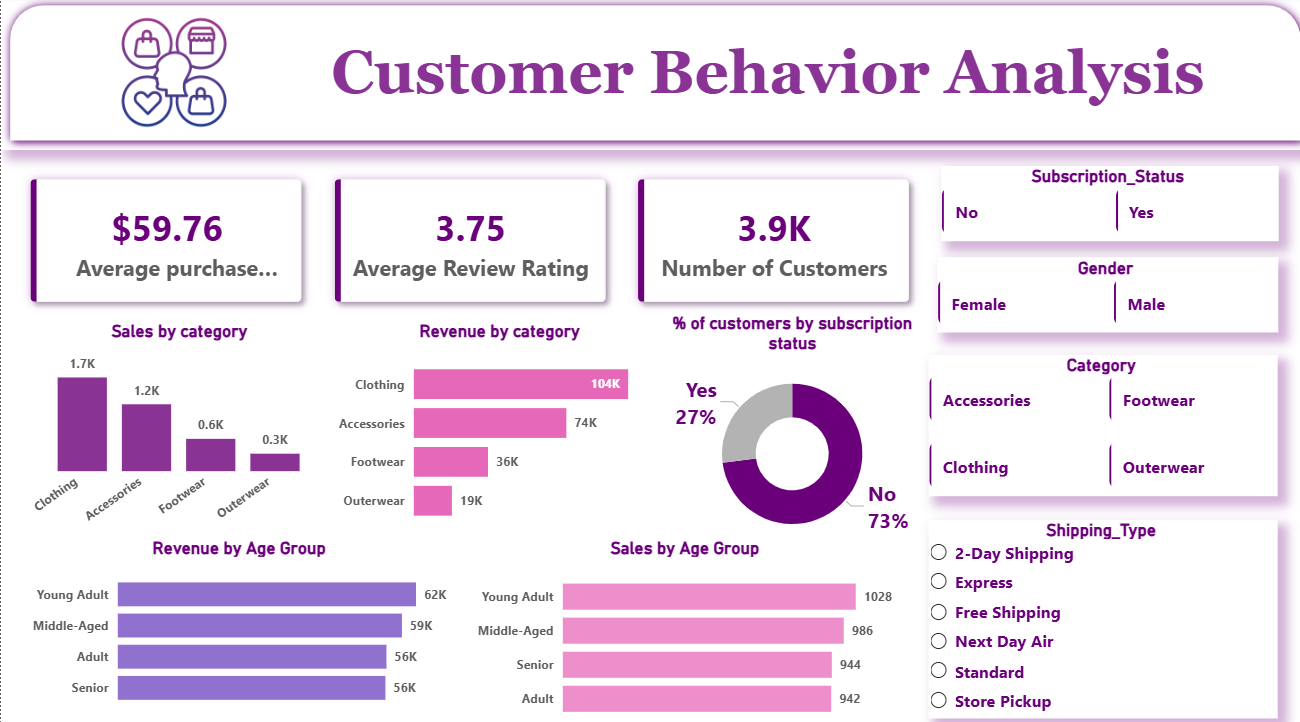

This screenshot's page, from the dashboard's own definition file:
{"tool":"powerbi","page":{"name":"Page 1","canvas":[1280,720],"ordinal":0},"visuals":[{"type":"cardVisual","fields":{"Data":["customer_behavior customer.Average purchase amount","customer_behavior customer.Average Review Rating","customer_behavior customer.Number of Customers"]},"box":[0,150,919,178.9],"z":0},{"type":"shape","box":[0,0,1280.3,150.4],"z":1000},{"type":"textbox","box":[238.5,36.7,1023.5,85.6],"z":2000},{"type":"image","box":[50.1,18.3,238.5,112.5],"z":3000},{"type":"donutChart","title":"% of customers by subscription status","fields":{"Category":["customer_behavior customer.subscription_status"],"Y":["CountNonNull(customer_behavior customer.customer_id)"]},"box":[640.6,305.9,266.9,242.4],"z":4000},{"type":"clusteredBarChart","title":"Revenue by category","fields":{"Category":["customer_behavior customer.category"],"Y":["Sum(customer_behavior customer.purchase_amount)"]},"box":[324.6,317.4,327.5,212.1],"z":5000},{"type":"clusteredColumnChart","title":"Sales by category","fields":{"Y":["CountNonNull(customer_behavior customer.customer_id)"],"Category":["customer_behavior customer.category"]},"box":[24.5,317.4,300.1,212.1],"z":6000},{"type":"advancedSlicerVisual","title":"Subscription_Status","fields":{"Values":["customer_behavior customer.subscription_status"]},"box":[919,165.9,330.4,73.6],"z":7000},{"type":"advancedSlicerVisual","title":"Gender","fields":{"Values":["customer_behavior customer.gender"]},"box":[916.2,255.4,333.3,73.6],"z":8000},{"type":"advancedSlicerVisual","title":"Category","fields":{"Values":["customer_behavior customer.category"]},"box":[907.5,350.6,341.9,138.5],"z":9000},{"type":"listSlicer","title":"Shipping_Type","fields":{"Values":["customer_behavior customer.shipping_type"]},"box":[907.5,512.2,341.9,194.8],"z":9001},{"type":"clusteredBarChart","title":"Revenue by Age Group","fields":{"Category":["customer_behavior customer.age_group"],"Y":["Sum(customer_behavior customer.purchase_amount)"]},"box":[24.5,529.5,417,177.5],"z":9002},{"type":"clusteredBarChart","title":"Sales by Age Group","fields":{"Category":["customer_behavior customer.age_group"],"Y":["CountNonNull(customer_behavior customer.customer_id)"]},"box":[460.2,529.5,418.4,190.4],"z":9003}]}

Visuals, with their boxes in screenshot pixels (x1, y1, x2, y2), scaled from the page's 1280x720 canvas onto the 1300x722 screenshot:
cardVisual - customer_behavior customer.Average purchase amount x customer_behavior customer.Average Review Rating: <bbox>0, 150, 933, 330</bbox>
shape: <bbox>0, 0, 1299, 151</bbox>
textbox: <bbox>242, 37, 1282, 123</bbox>
image: <bbox>51, 18, 293, 131</bbox>
"% of customers by subscription status" donutChart: <bbox>651, 307, 922, 550</bbox>
"Revenue by category" clusteredBarChart: <bbox>330, 318, 662, 531</bbox>
"Sales by category" clusteredColumnChart: <bbox>25, 318, 330, 531</bbox>
"Subscription_Status" advancedSlicerVisual: <bbox>933, 166, 1269, 240</bbox>
"Gender" advancedSlicerVisual: <bbox>931, 256, 1269, 330</bbox>
"Category" advancedSlicerVisual: <bbox>922, 352, 1269, 490</bbox>
"Shipping_Type" listSlicer: <bbox>922, 514, 1269, 709</bbox>
"Revenue by Age Group" clusteredBarChart: <bbox>25, 531, 448, 709</bbox>
"Sales by Age Group" clusteredBarChart: <bbox>467, 531, 892, 721</bbox>
